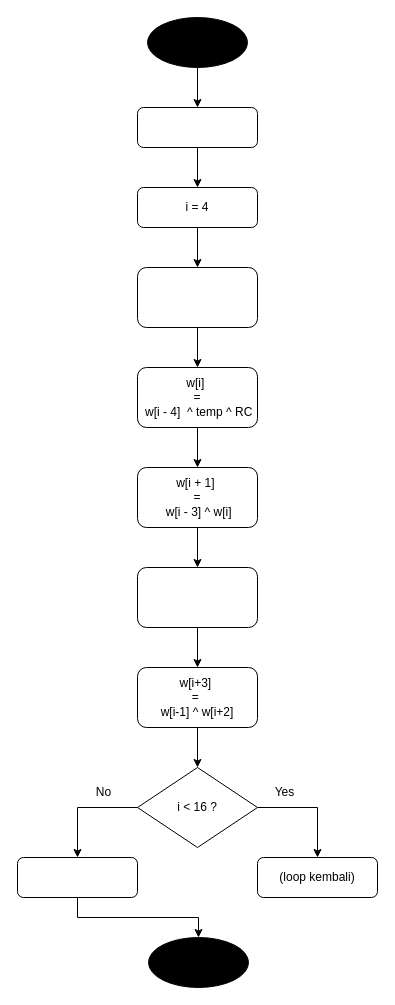
Image size: 395x1005. Some labels were removed from this diagram. The shapes that lost their labels are listed below. From the top down, each one's box as (x1, y1, x2, y2) in pixels, then its label:
(136, 106, 258, 148): Initial Key (w[0]...w[3])
(136, 266, 258, 328): temp = S-box (w[i-1])
(136, 566, 258, 628): w[i+2] = w[i-2] ^ w[i+1]
(16, 856, 138, 898): Round Keys
